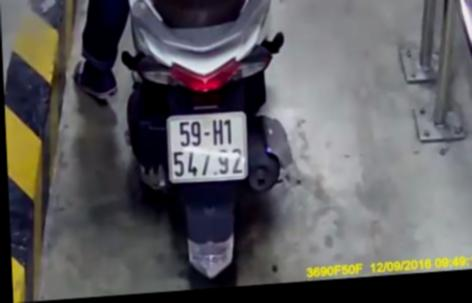License_Plate: (153, 106, 254, 190)
